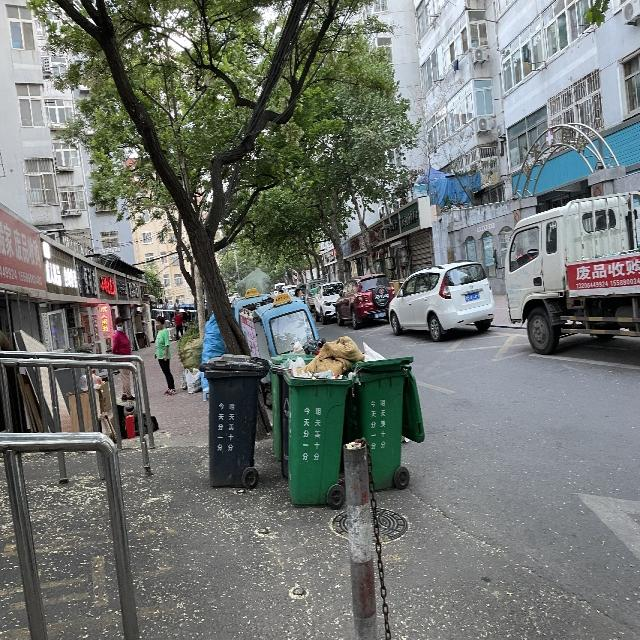garbage_bin: (200, 354, 269, 486)
overflow: (284, 334, 363, 505), (351, 340, 426, 491)
